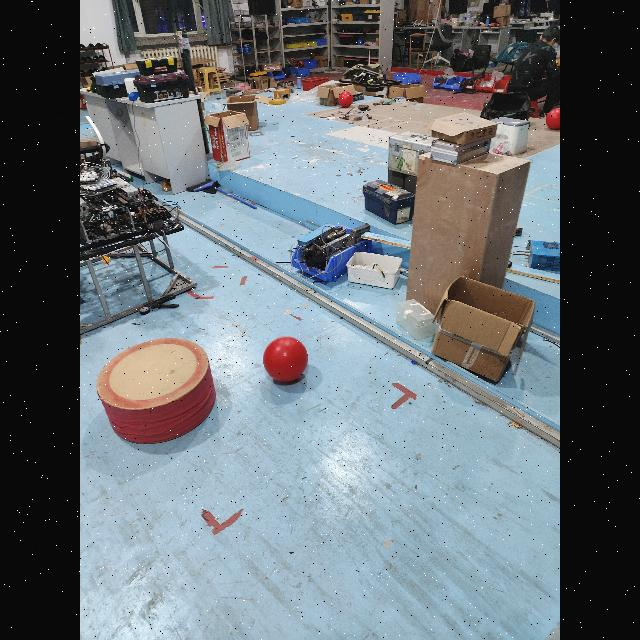R: (262, 336, 308, 384), (546, 108, 560, 130), (339, 91, 353, 107)
